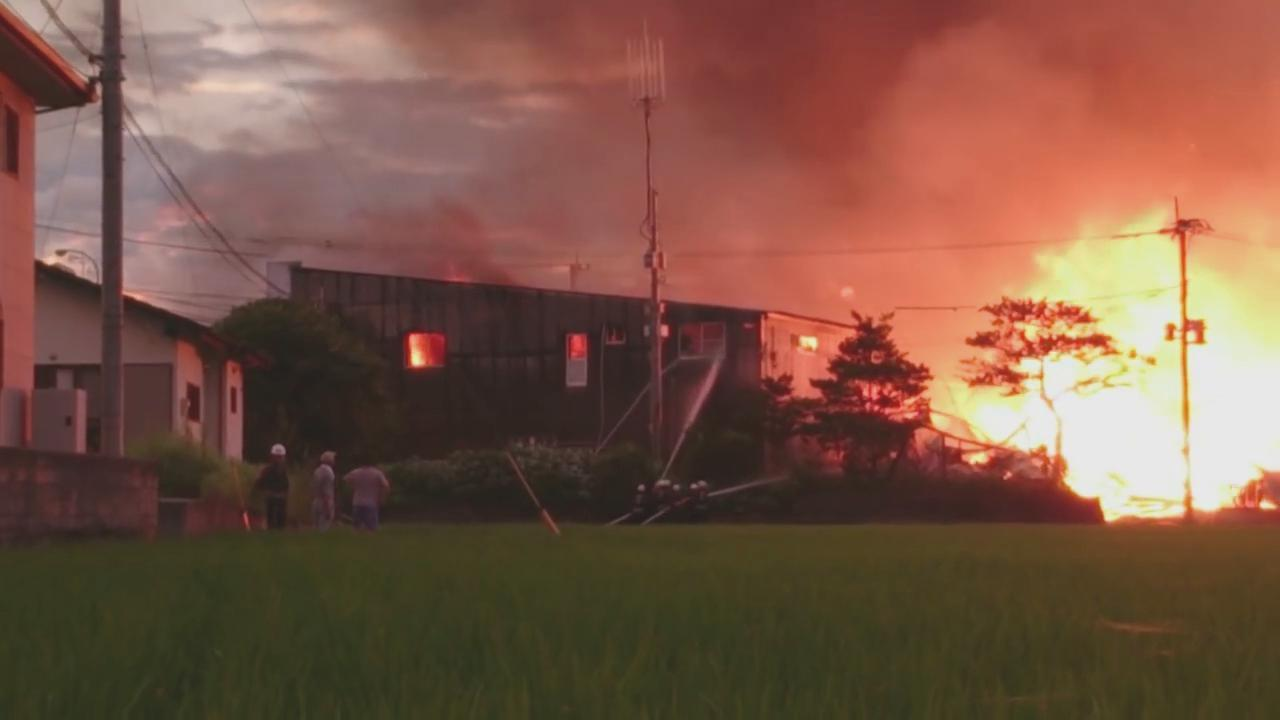Fire: (927, 225, 1276, 516), (407, 331, 452, 370), (797, 332, 820, 353)
